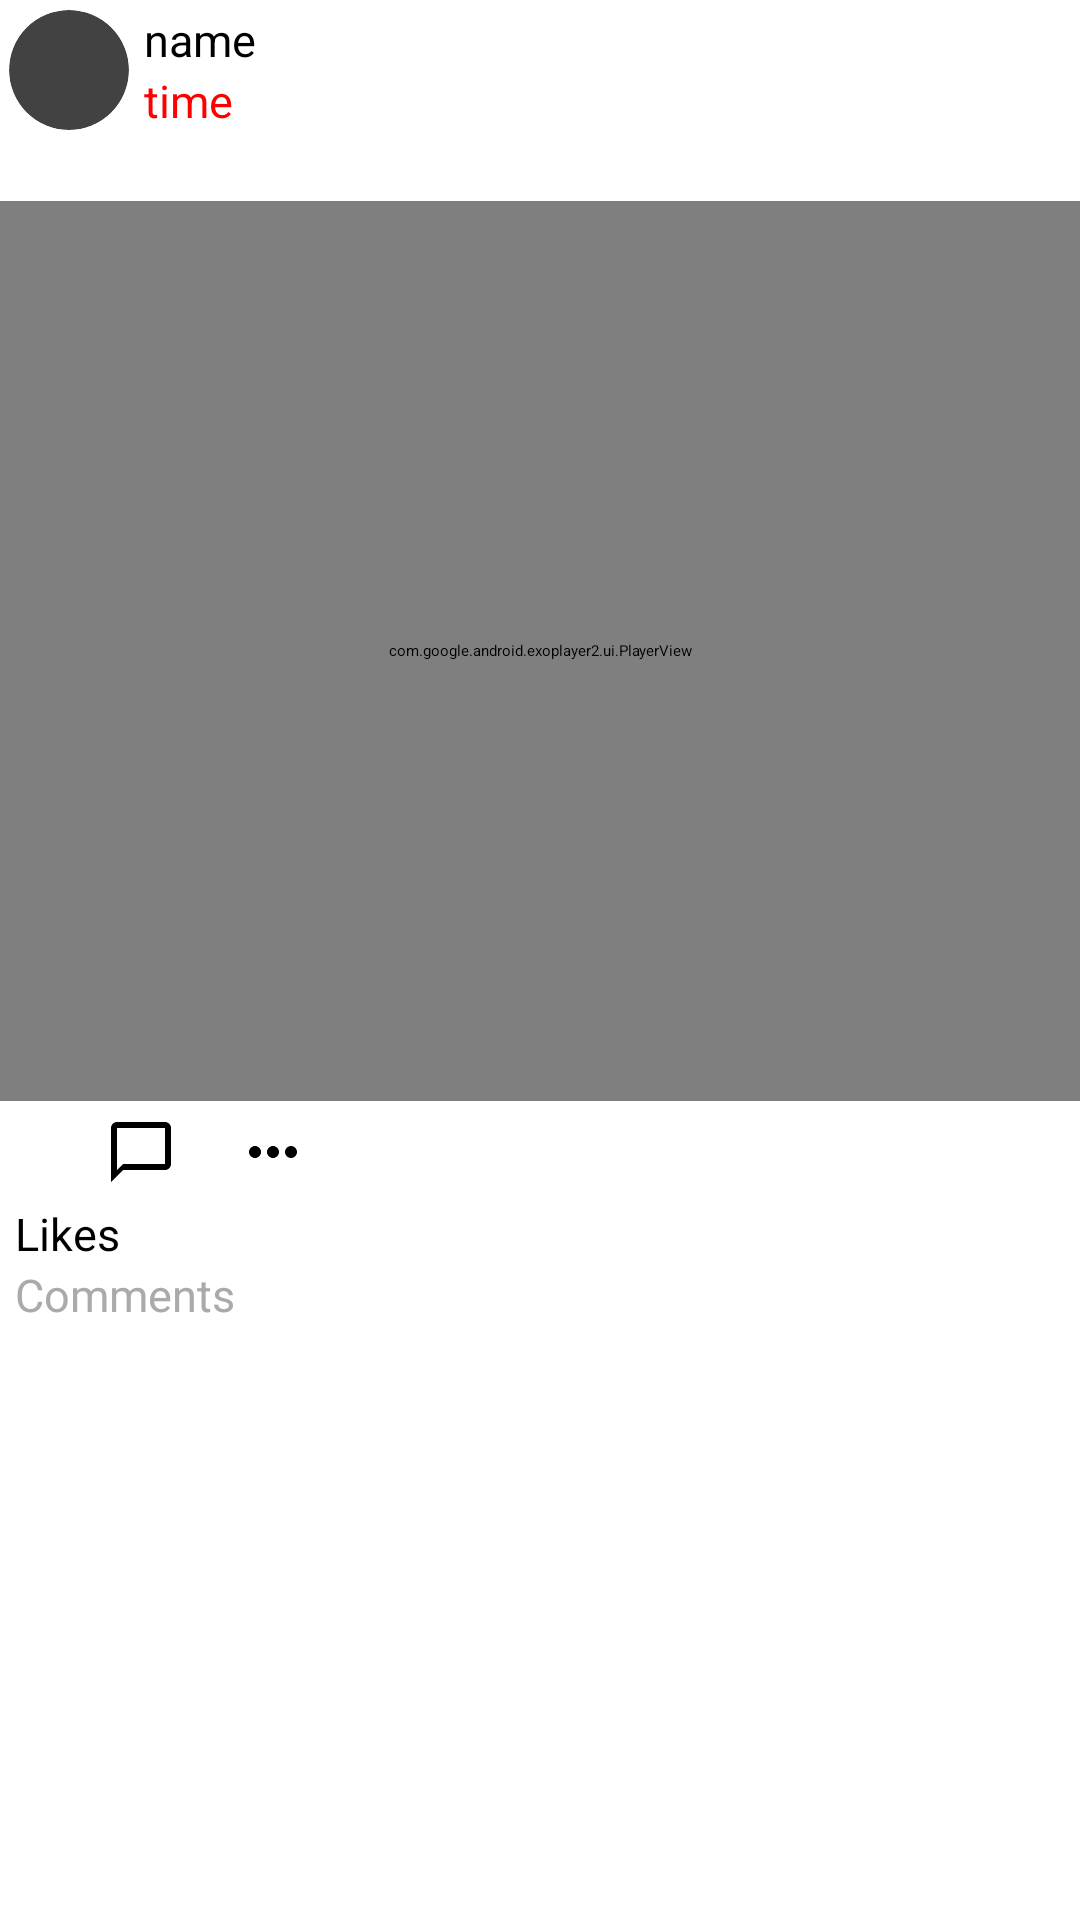

Point at icon controls on the screen. Image size 1080px x 1920px, points as point (x, y).
moreoptions: point (273, 1152)
